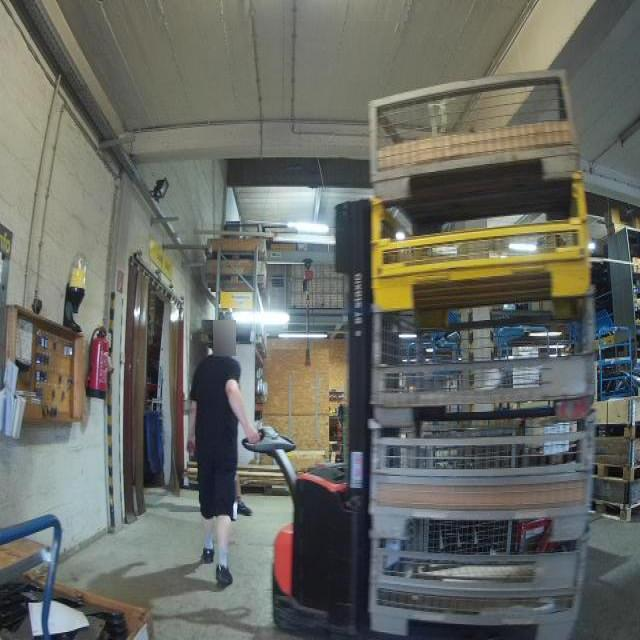pallet: (592, 495, 640, 525), (591, 460, 640, 486), (591, 421, 640, 443)
pallet_truck: (248, 186, 542, 640)
stillage: (371, 284, 596, 420), (371, 170, 590, 306), (364, 64, 580, 197), (368, 411, 595, 530), (366, 521, 586, 640)
